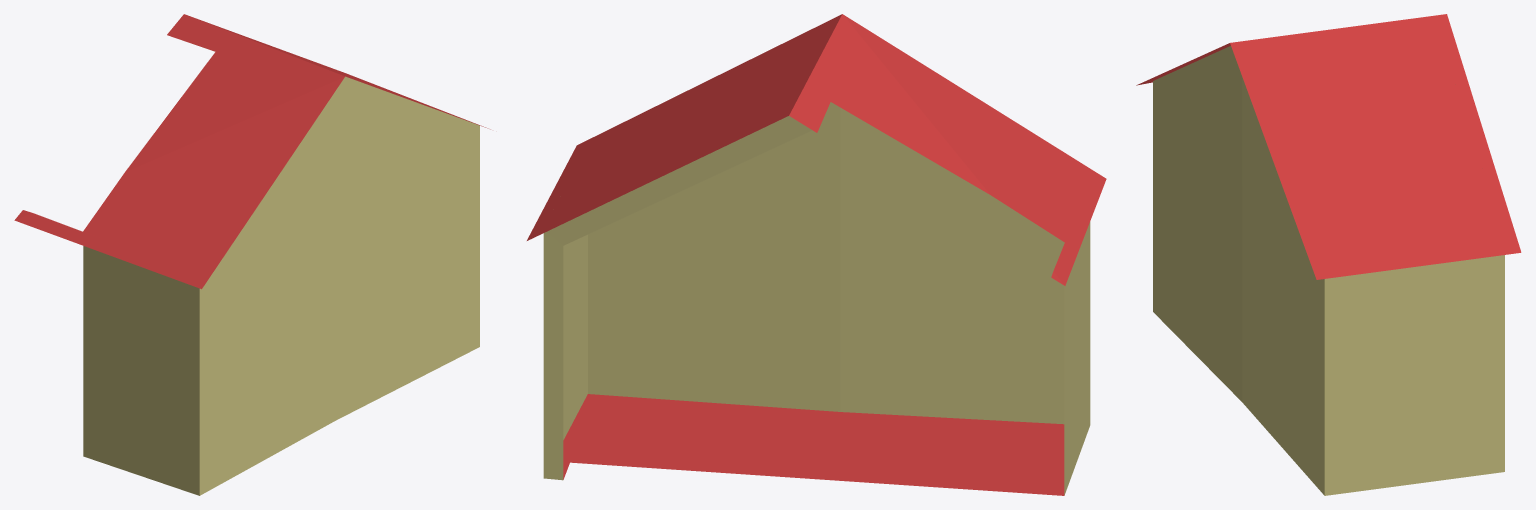
3 renders of one model, left to right at view 1: azimuth 30°, elevation 25°; view 2: azimuth 150°, elevation 25°; view 3: azimuth 270°, elevation 25°, orthographic. The views are drawn at different scales.
Bounding box in the file's own units: 20.73 × 14.55 × 15.03.
